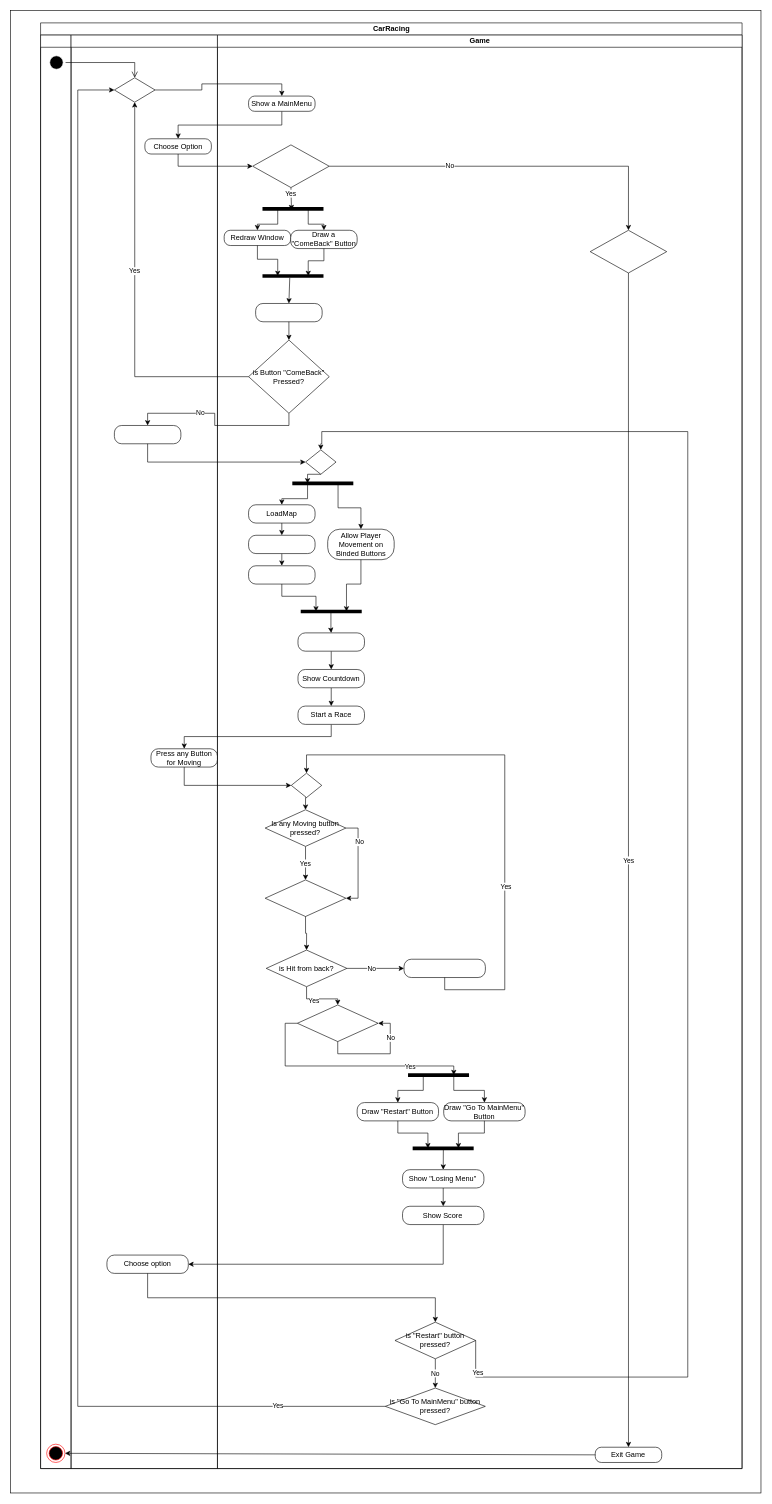
This 772x1504 diagram has some shape labels left out. Each missing label, with the box of its shape:
Choose Map: (114, 425, 181, 444)
Decrease score: (403, 959, 485, 978)
is Button "Exit" Pressed?: (590, 230, 667, 273)
is Button "Play" Pressed?: (252, 144, 329, 188)
is Last Player?: (297, 1004, 378, 1042)
Is Player hit another car?: (265, 879, 346, 917)
Place AI`s on Track: (248, 535, 315, 554)
Place Player on Track: (248, 565, 315, 584)
Player: (70, 34, 217, 1469)
RedrawWindow: (297, 632, 364, 651)
Show Menu To Chose a Map: (255, 303, 322, 322)
